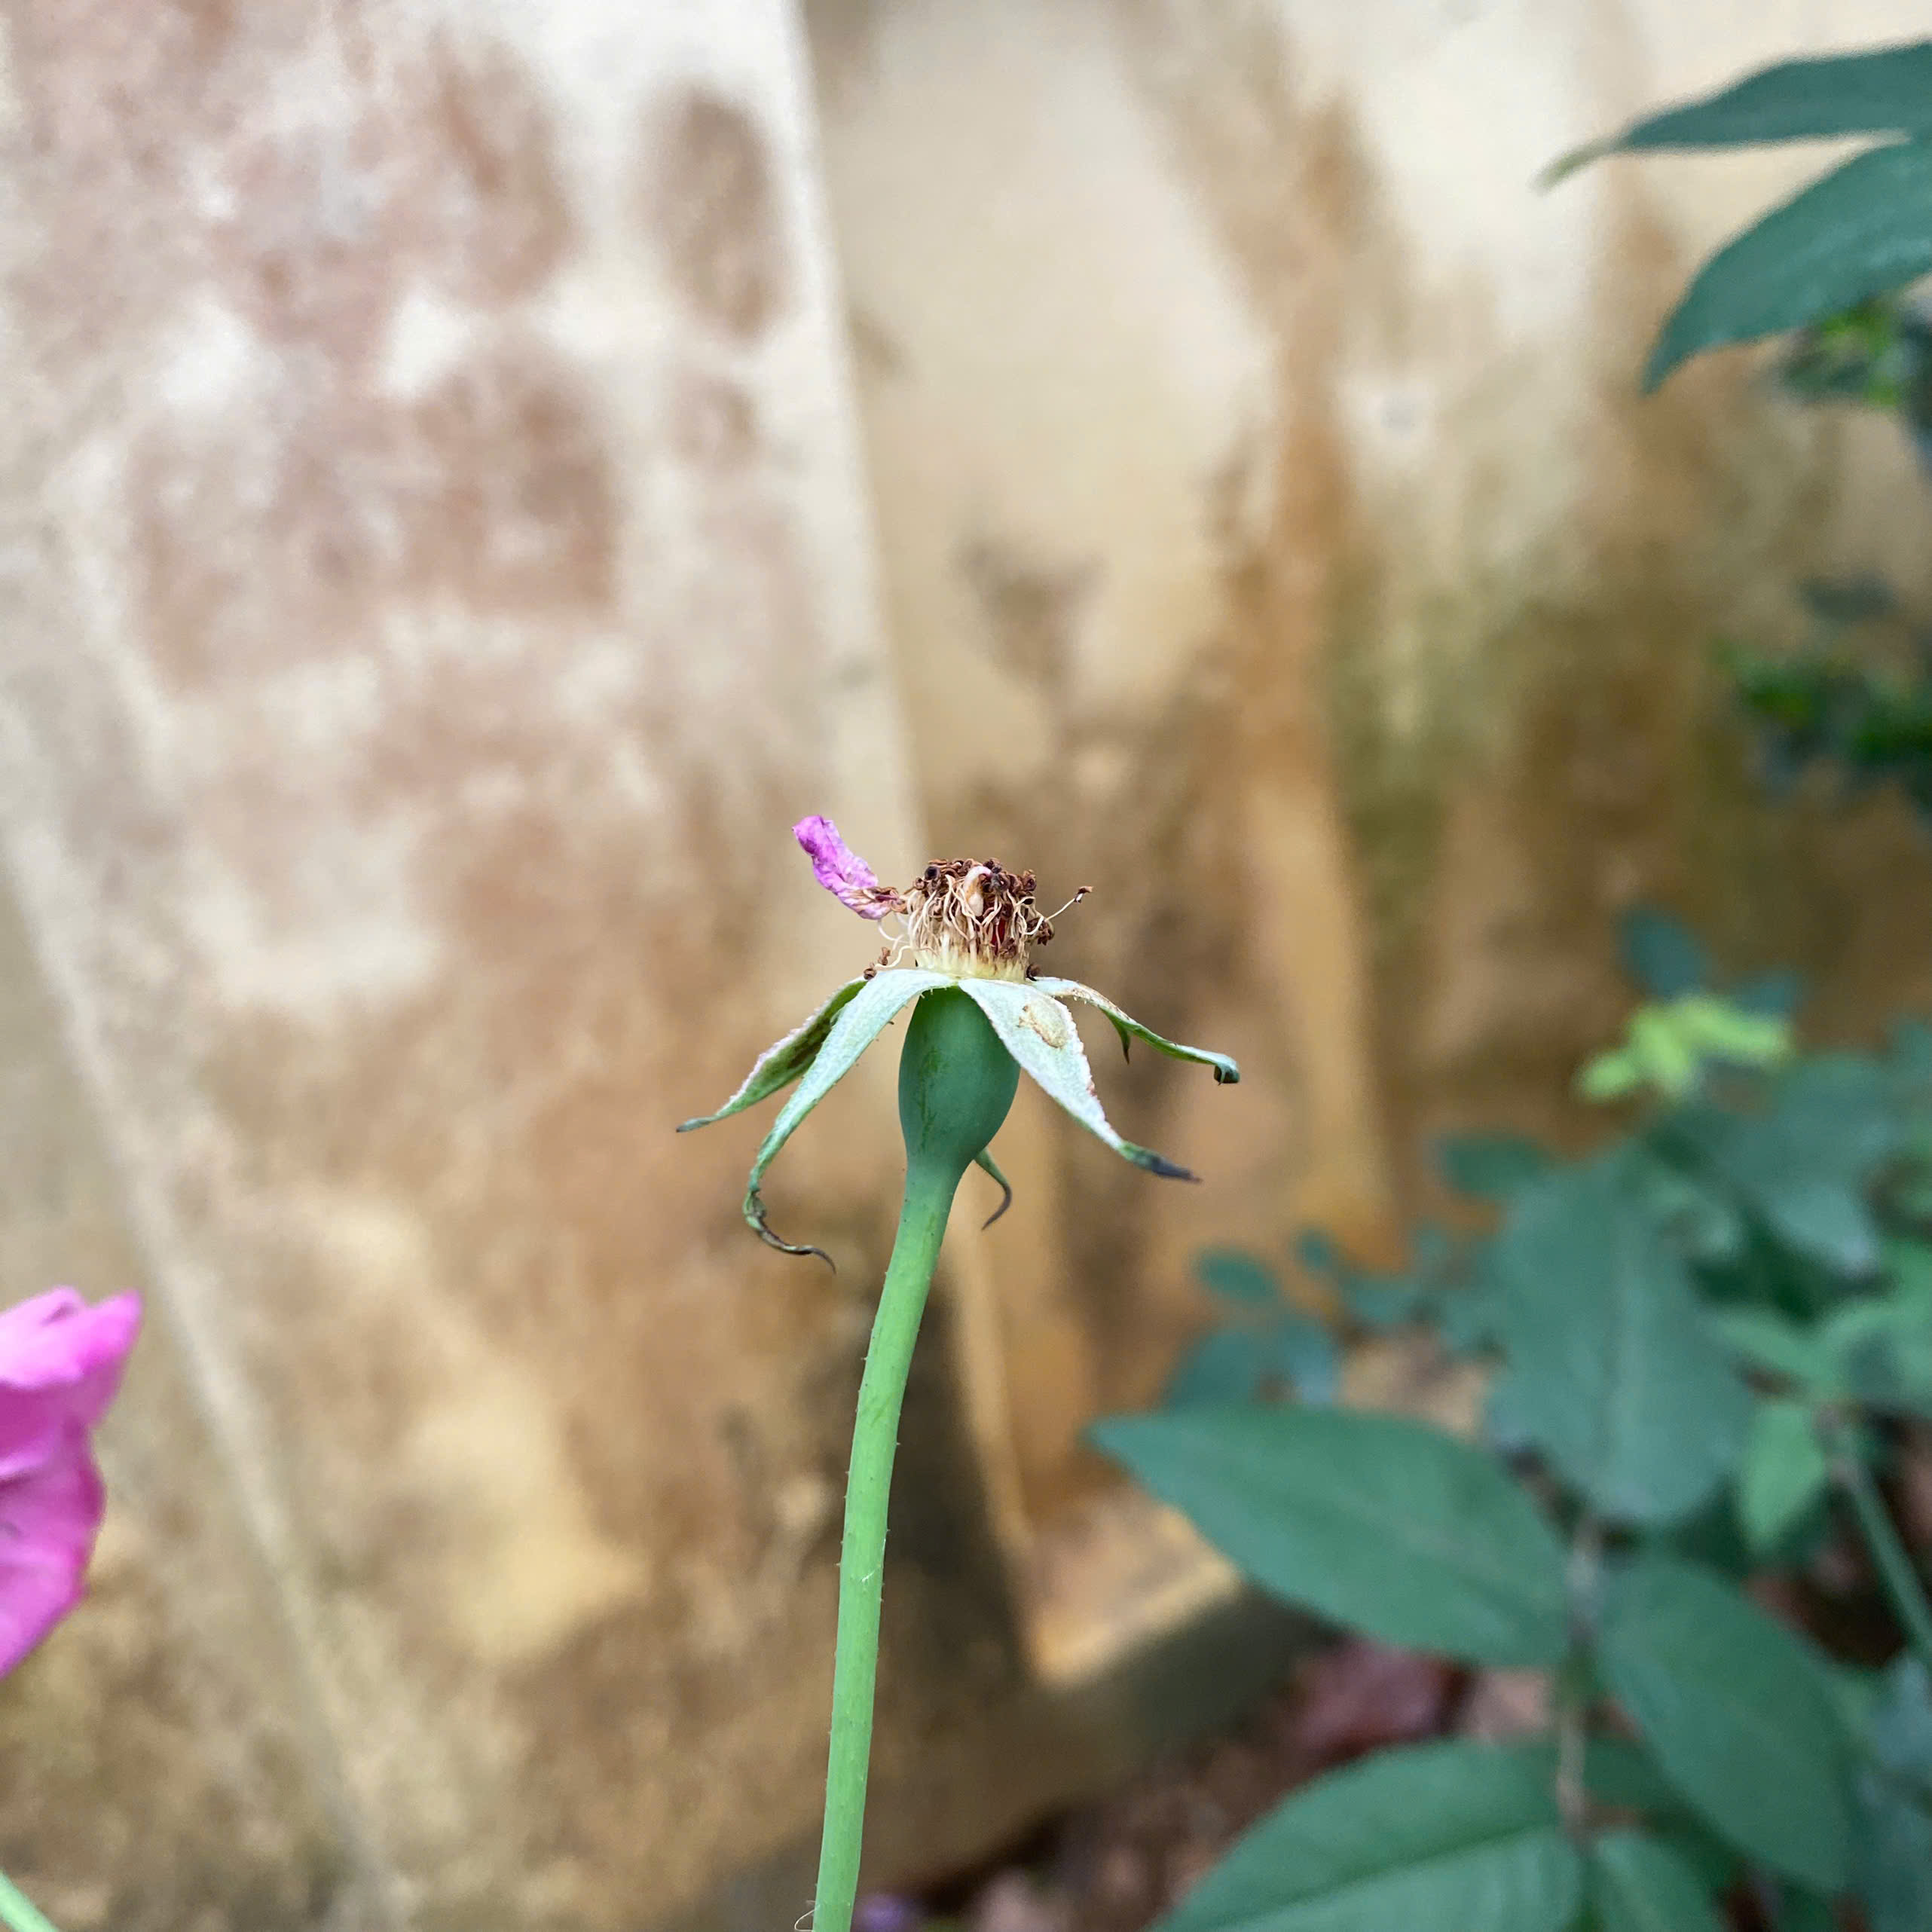hoa_hong_phan: (591, 738, 1325, 1932)
